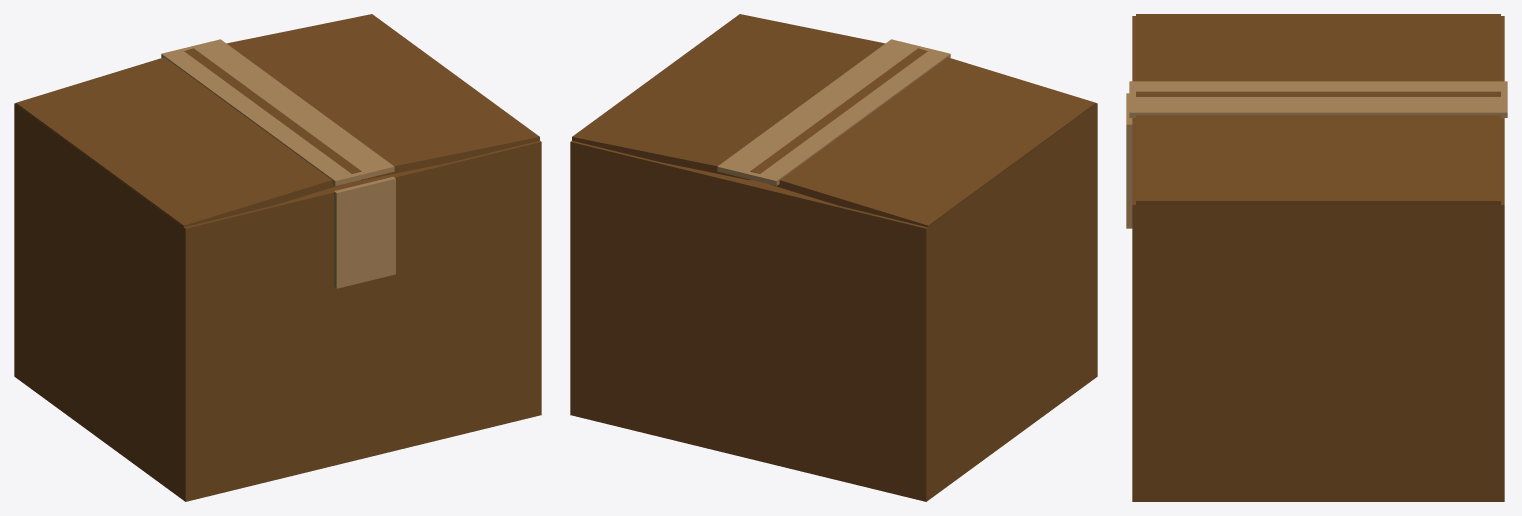
File: CARDBOARD_SMALL.glb
3 renders of one model, left to right at view 1: azimuth 30°, elevation 25°; view 2: azimuth 150°, elevation 25°; view 3: azimuth 270°, elevation 25°, orthographic. The views are drawn at different scales.
Visible parts, largest first — view 1: cardboard_0, glossyPlastic_1; view 2: cardboard_0, glossyPlastic_1; view 3: cardboard_0, glossyPlastic_1.
Part boxes in pixels (left/top/right/bottom): cardboard_0: left=14, top=14, right=541, bottom=501; glossyPlastic_1: left=161, top=39, right=395, bottom=288; cardboard_0: left=570, top=14, right=1097, bottom=501; glossyPlastic_1: left=717, top=39, right=950, bottom=185; cardboard_0: left=1132, top=14, right=1504, bottom=501; glossyPlastic_1: left=1126, top=81, right=1507, bottom=228.
Size of the model in its own units: 0.3001 by 0.2305 by 0.256.
